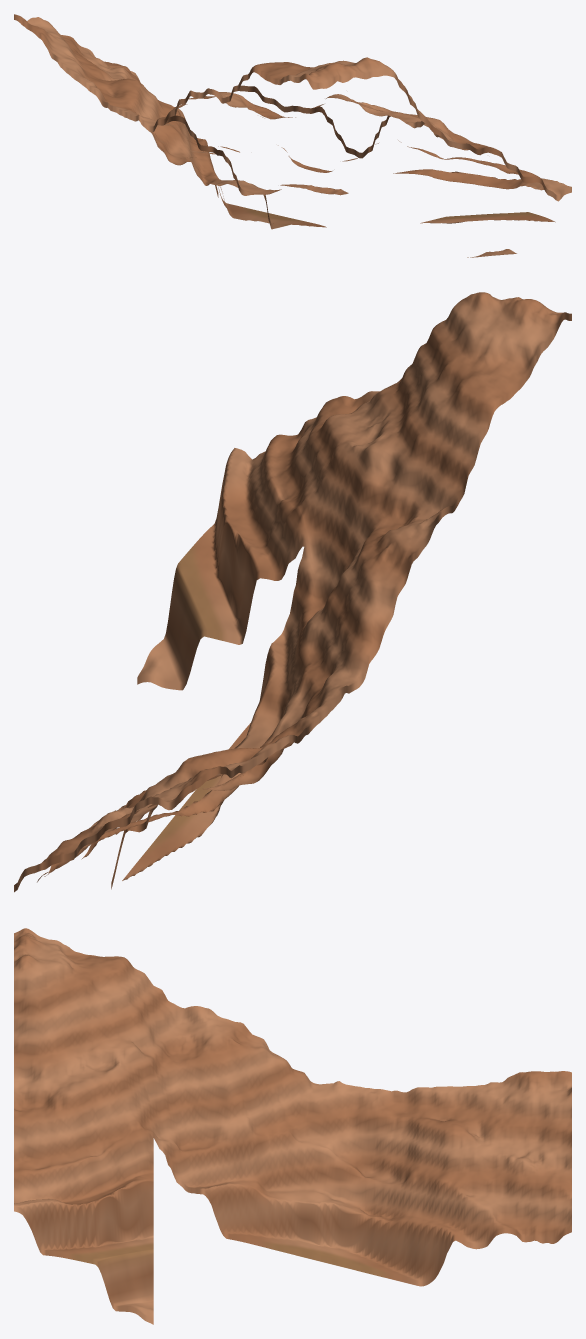
File: terrain-019.glb
3 renders of one model, top to bottom at view 1: azimuth 30°, elevation 25°; view 2: azimuth 150°, elevation 25°; view 3: azimuth 270°, elevation 25°, orthographic. The views are drawn at different scales.
Parts seen in each view (by area): view 1: terrain-019; view 2: terrain-019; view 3: terrain-019.
Boxes of the visible parts, x1=… form: terrain-019: x1=14, y1=14, x2=571, y2=257; terrain-019: x1=14, y1=292, x2=571, y2=892; terrain-019: x1=14, y1=928, x2=571, y2=1324.
Bounding box in the file's own units: 192 × 230 × 384.
